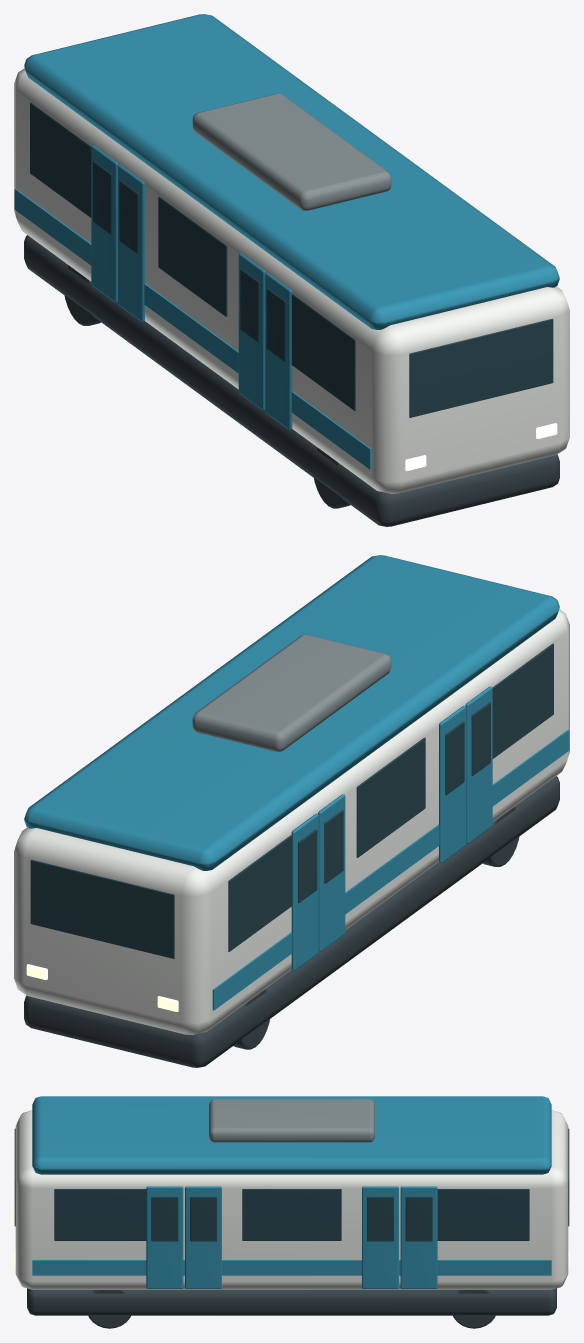
File: metro-train.glb
The picture shows the model from 3 angles, top to bottom: view 1: azimuth 30°, elevation 25°; view 2: azimuth 150°, elevation 25°; view 3: azimuth 270°, elevation 25°; orthographic projection. The views are drawn at different scales.
Parts seen in each view (by area): view 1: Blue roof, Pearl carriage, Underframe, Roof vent, Driver glass.001, Ocean stripe, Cabin window.001, Cabin window.002, Cabin window, Door_-1_-1.95_1, Door_-1_1.95_1, Door_-1_-1.95_-1 (+1 smaller); view 2: Blue roof, Pearl carriage, Underframe, Roof vent, Driver glass, Ocean stripe, Cabin window.001, Cabin window, Cabin window.002, Door_-1_1.95_-1, Door_-1_-1.95_-1, Door_-1_1.95_1 (+1 smaller); view 3: Blue roof, Pearl carriage, Underframe, Roof vent, Ocean stripe.001, Cabin window.004, Cabin window.003, Cabin window.005, Door_1_-1.95_-1, Door_1_1.95_1, Door_1_-1.95_1, Door_1_1.95_-1 (+2 smaller).
Part boxes in pixels (bbox=[...]): Blue roof: bbox=[24, 14, 559, 329]; Pearl carriage: bbox=[14, 68, 569, 493]; Underframe: bbox=[24, 235, 559, 526]; Roof vent: bbox=[192, 94, 391, 210]; Driver glass.001: bbox=[409, 318, 553, 417]; Ocean stripe: bbox=[14, 189, 371, 469]; Cabin window.001: bbox=[158, 196, 227, 316]; Cabin window.002: bbox=[291, 293, 355, 410]; Cabin window: bbox=[30, 102, 91, 217]; Door_-1_-1.95_1: bbox=[117, 165, 144, 322]; Door_-1_1.95_1: bbox=[265, 272, 292, 429]; Door_-1_-1.95_-1: bbox=[91, 145, 118, 302]; Blue roof: bbox=[24, 555, 559, 870]; Pearl carriage: bbox=[14, 609, 569, 1034]; Underframe: bbox=[24, 776, 559, 1067]; Roof vent: bbox=[192, 635, 391, 751]; Driver glass: bbox=[30, 859, 174, 958]; Ocean stripe: bbox=[212, 730, 569, 1010]; Cabin window.001: bbox=[356, 737, 425, 857]; Cabin window: bbox=[228, 834, 292, 951]; Cabin window.002: bbox=[492, 643, 553, 758]; Door_-1_1.95_-1: bbox=[439, 706, 466, 863]; Door_-1_-1.95_-1: bbox=[291, 813, 318, 970]; Door_-1_1.95_1: bbox=[465, 686, 492, 843]; Blue roof: bbox=[32, 1096, 551, 1174]; Pearl carriage: bbox=[15, 1110, 568, 1289]; Underframe: bbox=[27, 1288, 556, 1315]; Roof vent: bbox=[209, 1099, 374, 1142]; Ocean stripe.001: bbox=[32, 1260, 551, 1275]; Cabin window.004: bbox=[242, 1189, 341, 1240]; Cabin window.003: bbox=[437, 1189, 529, 1240]; Cabin window.005: bbox=[54, 1189, 146, 1240]; Door_1_-1.95_-1: bbox=[400, 1186, 437, 1288]; Door_1_1.95_1: bbox=[146, 1186, 183, 1288]; Door_1_-1.95_1: bbox=[362, 1186, 398, 1288]; Door_1_1.95_-1: bbox=[185, 1186, 221, 1288].
Size of the model in its own units: 3.16 by 3.68 by 10.06.
